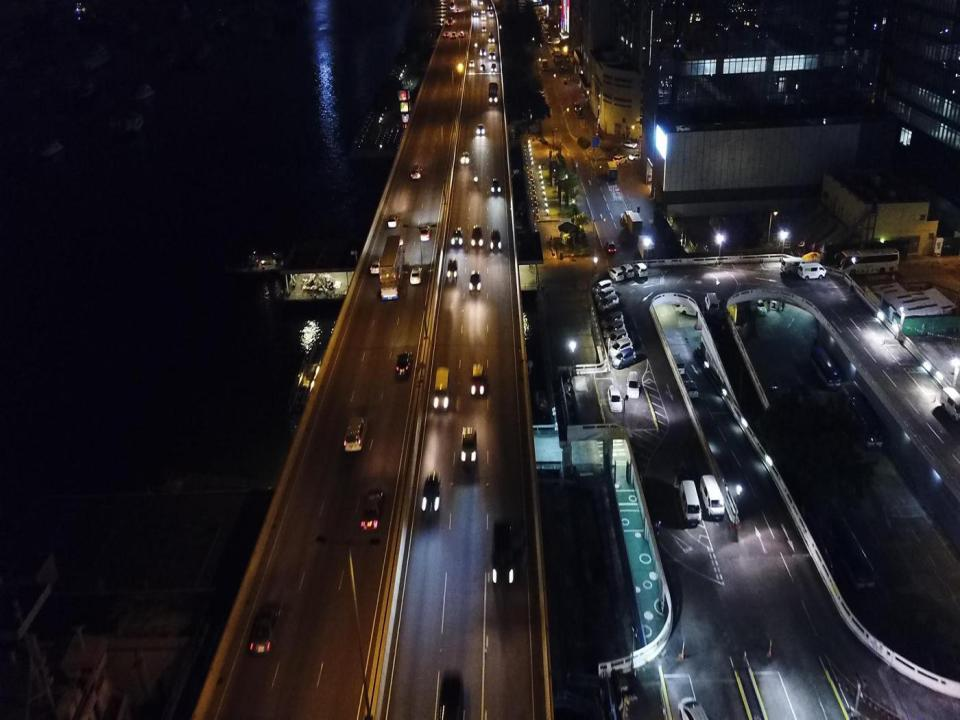bus: (827, 514, 875, 593), (795, 509, 834, 586), (848, 394, 883, 449), (835, 248, 900, 276), (379, 235, 405, 301), (809, 346, 841, 391), (543, 24, 549, 34), (449, 0, 454, 9), (547, 35, 551, 44), (448, 18, 452, 26), (542, 20, 544, 28)
car: (249, 600, 282, 657), (491, 521, 513, 583), (438, 670, 464, 719), (360, 488, 384, 530), (423, 472, 442, 512), (345, 416, 367, 450), (678, 696, 710, 719), (460, 426, 477, 463), (609, 336, 633, 358), (612, 348, 636, 369), (396, 349, 412, 378), (471, 362, 484, 397), (607, 385, 622, 412), (603, 320, 625, 338), (601, 312, 624, 329), (605, 330, 628, 347), (597, 295, 619, 311), (596, 287, 615, 302), (592, 280, 613, 293), (632, 262, 648, 278), (618, 263, 634, 279), (684, 380, 698, 398), (472, 223, 482, 247), (754, 295, 766, 315), (410, 267, 422, 286), (491, 228, 501, 250), (470, 270, 480, 292), (608, 268, 624, 281), (419, 224, 431, 241), (452, 226, 462, 246), (388, 214, 399, 228), (371, 258, 381, 273), (605, 240, 616, 253), (492, 178, 500, 192), (620, 140, 636, 147), (629, 152, 642, 160), (462, 151, 468, 164), (477, 124, 484, 134), (469, 59, 475, 67), (577, 110, 583, 118), (480, 49, 485, 56), (481, 65, 486, 71), (460, 31, 464, 38), (482, 26, 486, 33), (482, 8, 486, 14), (456, 8, 460, 13), (474, 11, 478, 16), (479, 0, 483, 5), (489, 12, 493, 17), (482, 16, 486, 20), (445, 33, 449, 36)
truck: (785, 251, 822, 278), (626, 212, 642, 236), (638, 234, 654, 258), (488, 82, 498, 104), (606, 161, 617, 179), (489, 45, 495, 60), (541, 58, 548, 70), (554, 47, 560, 58), (489, 31, 493, 42)
van: (699, 475, 725, 519), (679, 480, 701, 525), (940, 387, 960, 424), (434, 366, 450, 412), (798, 262, 826, 281), (781, 258, 808, 274), (680, 301, 702, 318), (626, 371, 639, 399), (705, 292, 719, 316), (671, 354, 685, 374), (411, 165, 421, 180), (613, 154, 627, 164), (623, 210, 633, 223), (574, 102, 581, 112), (491, 63, 496, 74), (560, 66, 565, 74), (451, 31, 456, 38), (556, 55, 560, 62), (488, 4, 492, 10)
